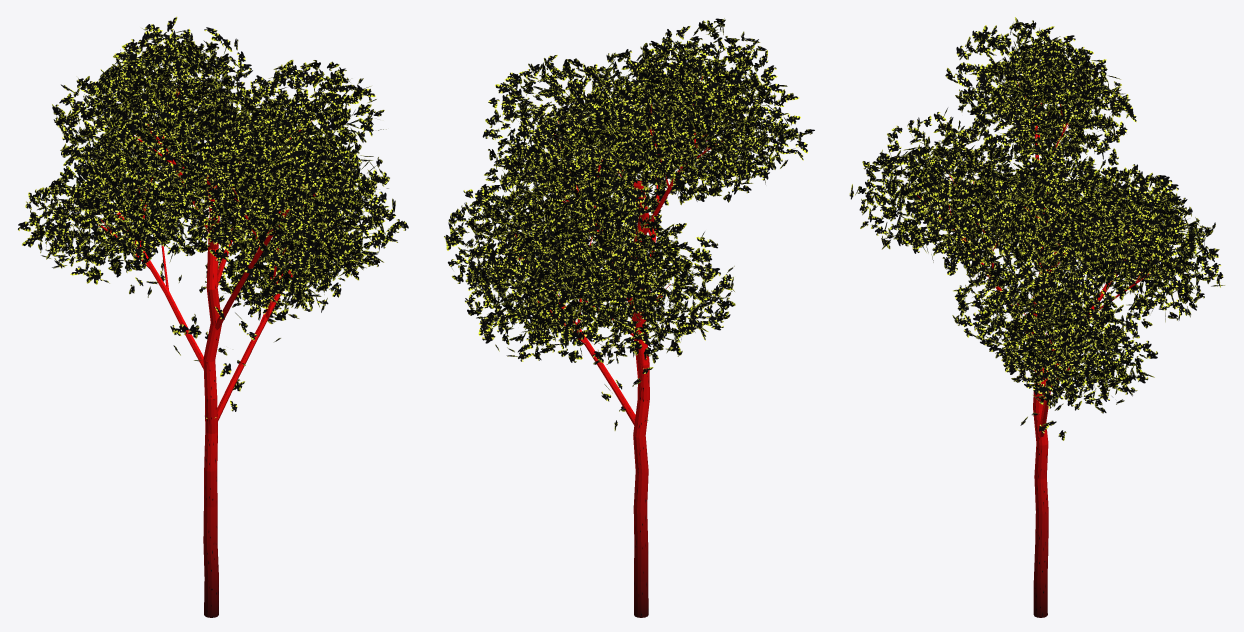
File: birch_pale_v01.glb
3 renders of one model, left to right at view 1: azimuth 30°, elevation 25°; view 2: azimuth 150°, elevation 25°; view 3: azimuth 270°, elevation 25°, orthographic. The views are drawn at different scales.
Parts seen in each view (by area): view 1: birch_pale_v01; view 2: birch_pale_v01; view 3: birch_pale_v01.
Boxes of the visible parts, box(x1,y1,x2,y2) form: birch_pale_v01: box(18, 16, 408, 617); birch_pale_v01: box(444, 18, 814, 617); birch_pale_v01: box(849, 17, 1225, 617).
Size of the model in its own units: 9.12 by 15.29 by 9.21.
Materials: 2 (2 with a texture image).
